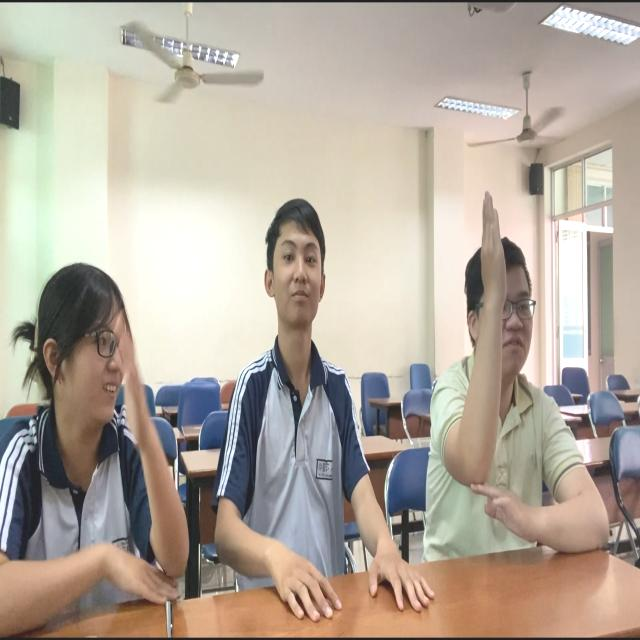raise_hand: (1, 257, 201, 640), (437, 192, 597, 568)
